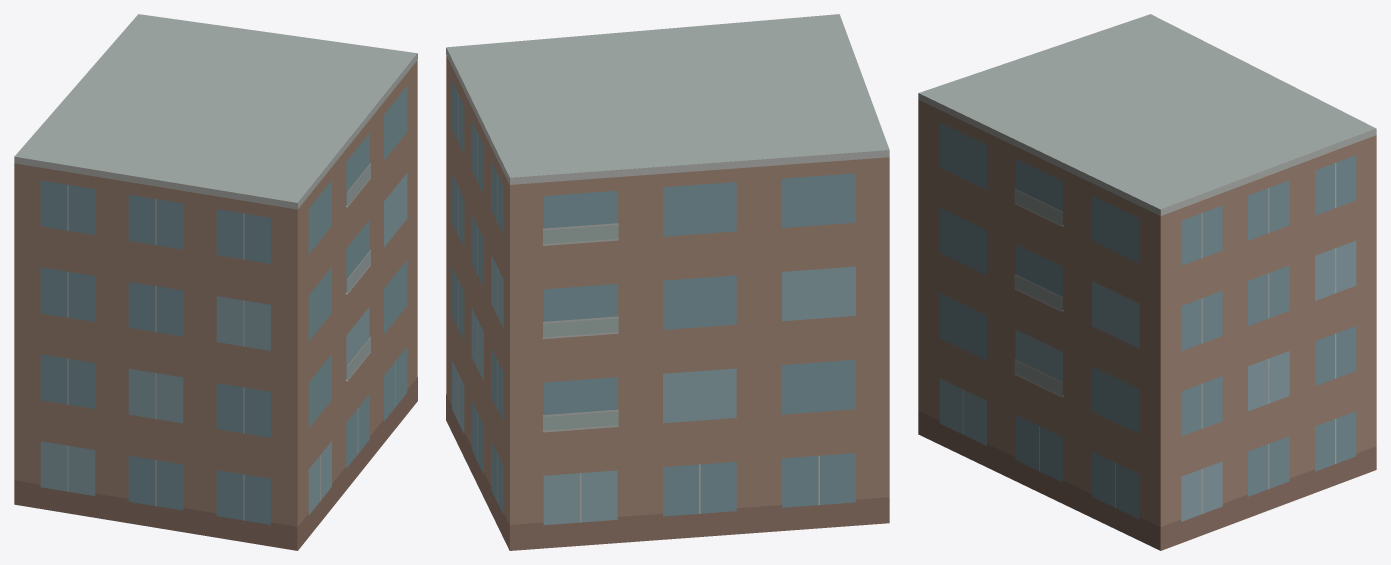
Rendered from survey-upis-33006852.glb.
The picture shows the model from 3 angles, left to right: view 1: azimuth 30°, elevation 25°; view 2: azimuth 150°, elevation 25°; view 3: azimuth 270°, elevation 25°; orthographic projection. The views are drawn at different scales.
Parts seen in each view (by area): view 1: survey-upis-33006852.tmp; view 2: survey-upis-33006852.tmp; view 3: survey-upis-33006852.tmp.
Boxes of the visible parts, x1,y1,x2,y2 form: survey-upis-33006852.tmp: (14,14,417,550); survey-upis-33006852.tmp: (446,14,889,550); survey-upis-33006852.tmp: (918,14,1376,550).
Size of the model in its own units: 15.74 by 12.8 by 15.58.
